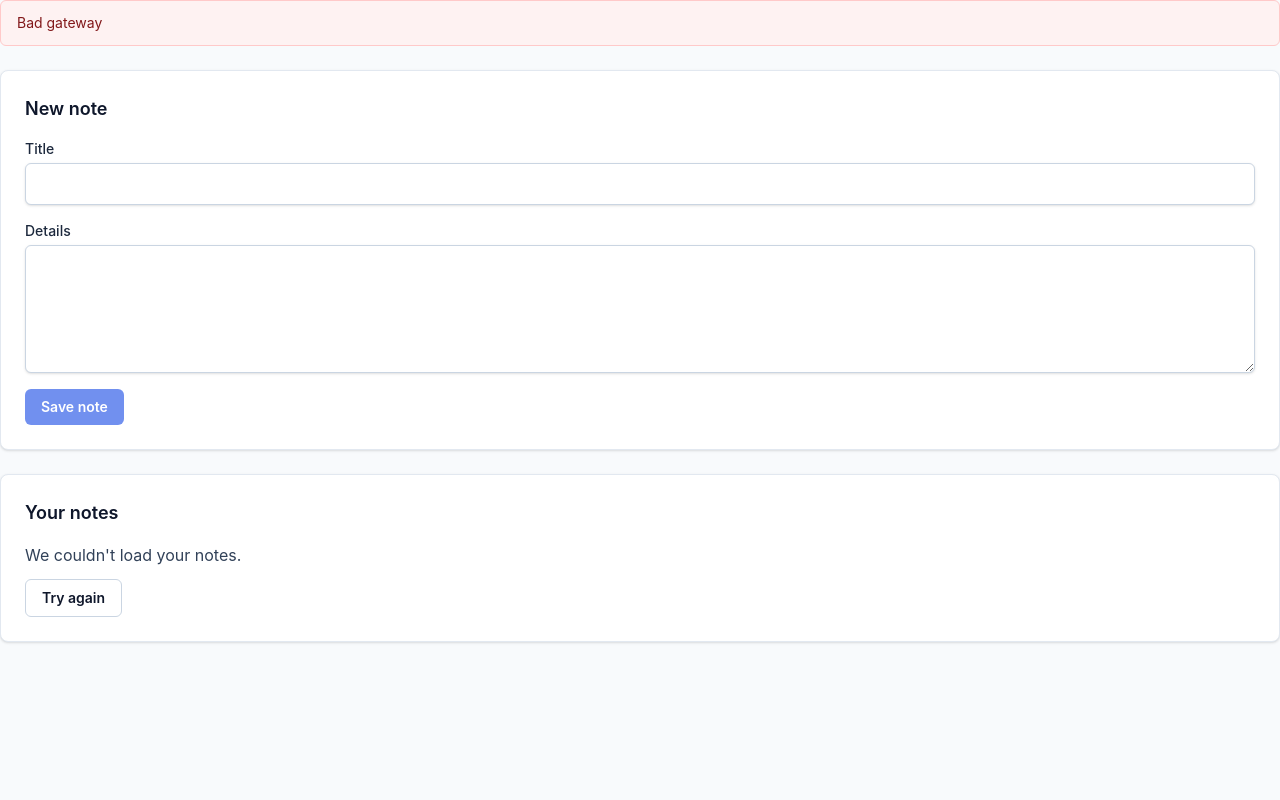
Test case: Dashboard notes list (T-86) › offers a retry instead of loading forever when the list fails to load
Check: the text "We couldn't load your notes." is shown, box [25,545,241,565]
Click the button "Try again" at (74,598), box [25,579,122,617]
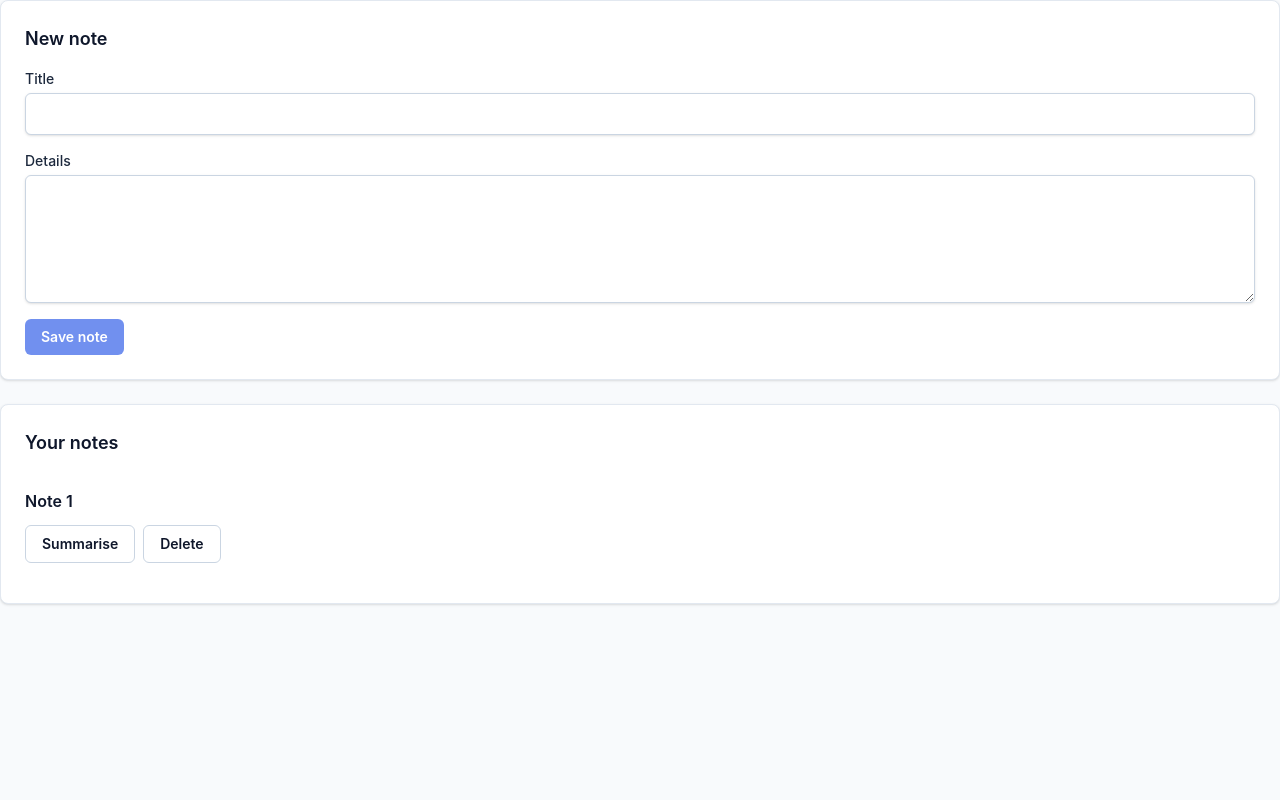
Check: the heading "Note 1" is shown, box [25,491,73,511]
